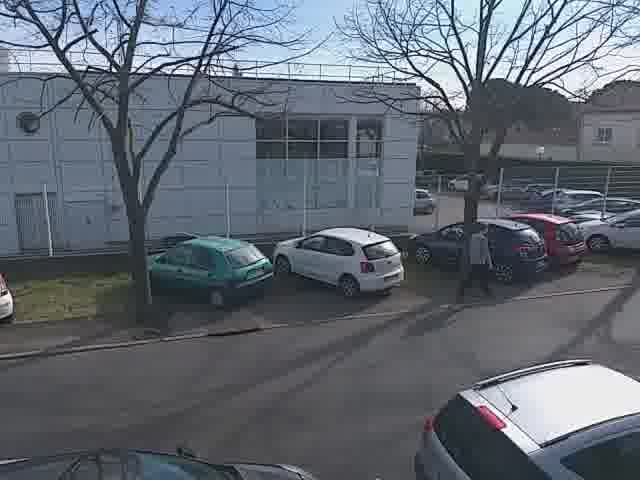persona: (457, 208, 500, 303)
